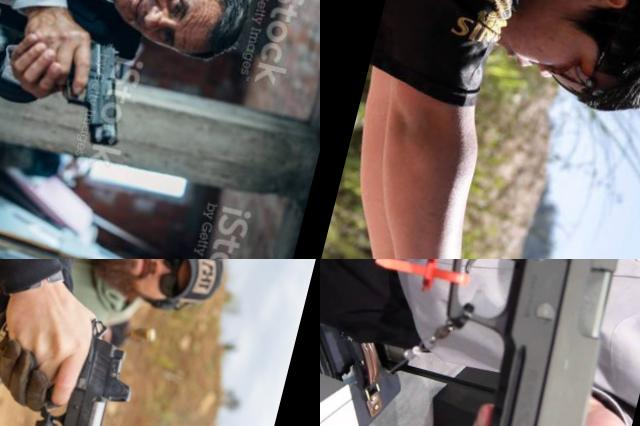handgun: (320, 259, 640, 426), (0, 290, 149, 426), (39, 30, 142, 156)
